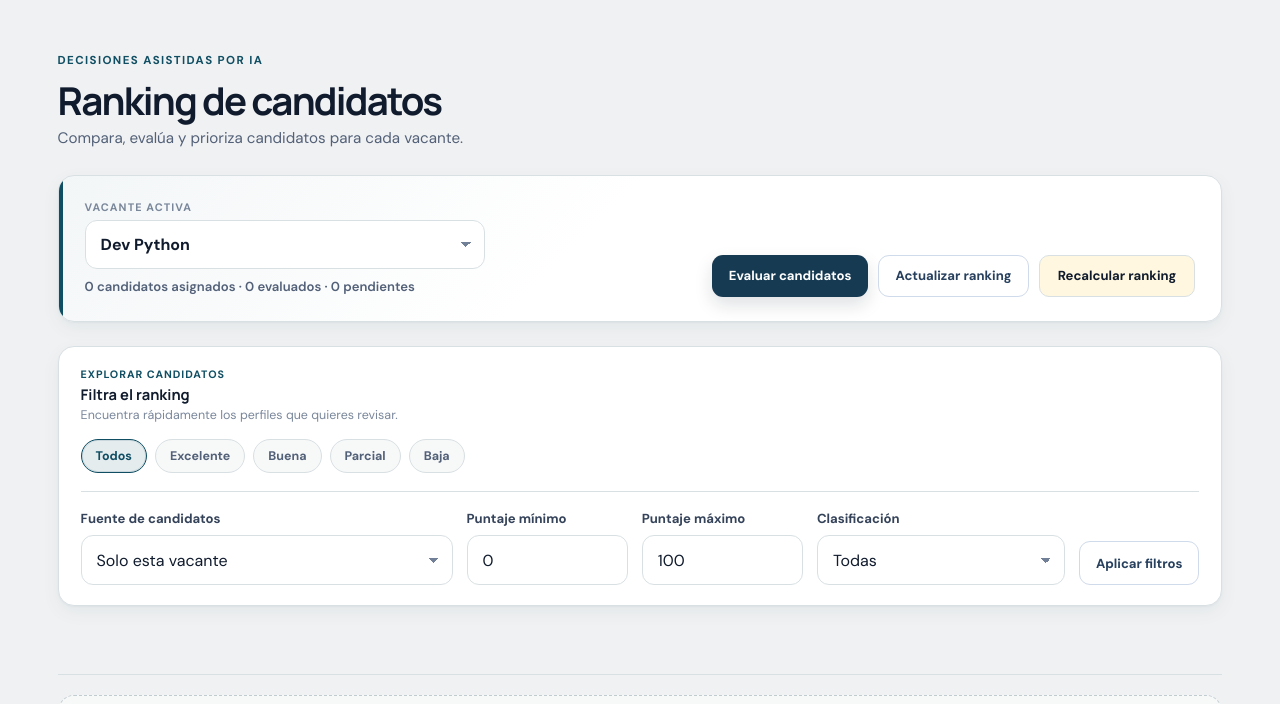
Test: Ranking page › shows 'Ranking actualizado' when refresh returns valid data
Click the button "Actualizar ranking" at (954, 276), box [878,255,1029,297]
(page scrolled)
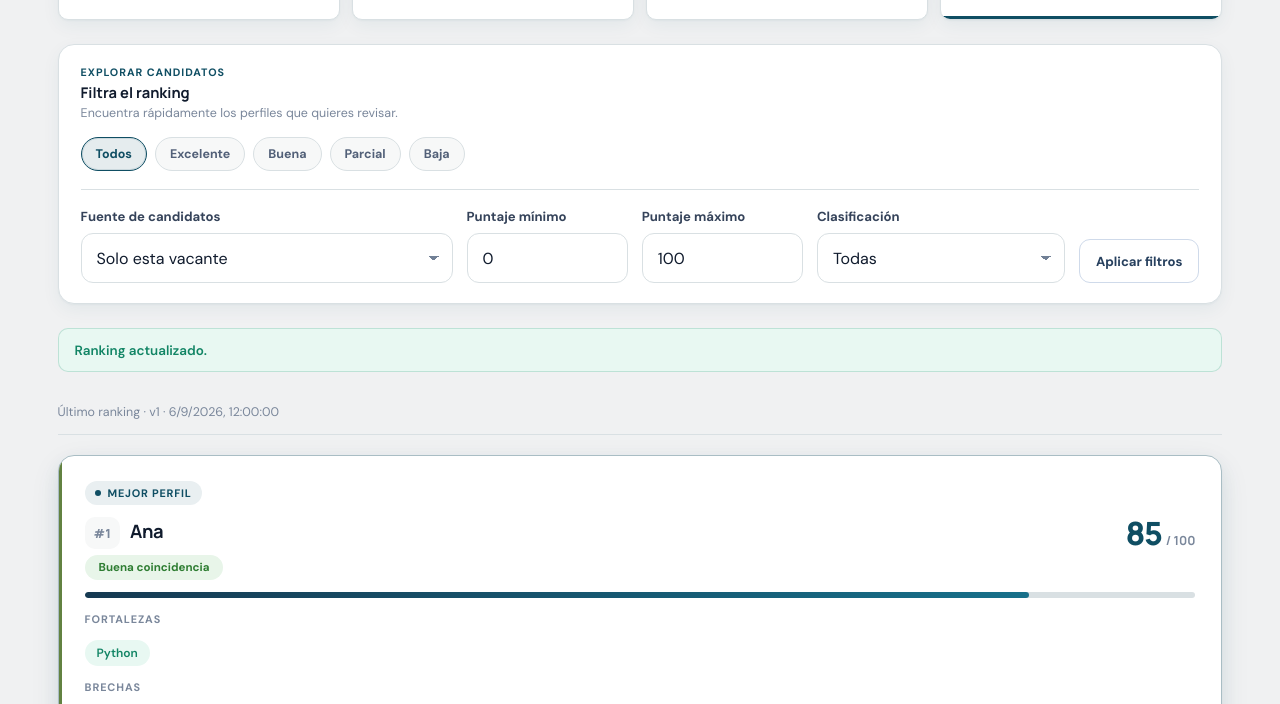
Now the text "Ranking actualizado." is shown, box [58,328,1222,372]
